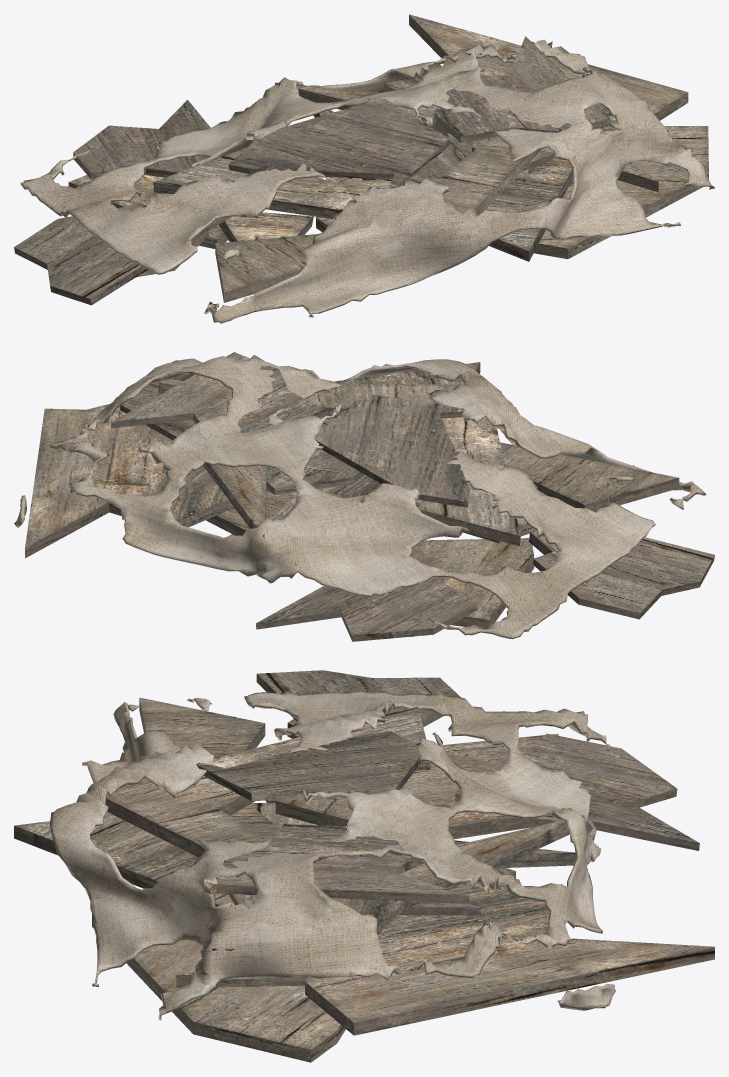
The model's file is WOOD WASTE 2.fbx.
The picture shows the model from 3 angles, top to bottom: view 1: azimuth 30°, elevation 25°; view 2: azimuth 150°, elevation 25°; view 3: azimuth 270°, elevation 25°; orthographic projection. The views are drawn at different scales.
Visible parts, largest first — view 1: WOOD WASTE 2; view 2: WOOD WASTE 2; view 3: WOOD WASTE 2.
Boxes of the visible parts, x1,y1,x2,y2 form: WOOD WASTE 2: (14,14,714,323); WOOD WASTE 2: (14,352,714,641); WOOD WASTE 2: (14,670,714,1062).
Size of the model in its own units: 2.28 by 0.3012 by 1.76.
